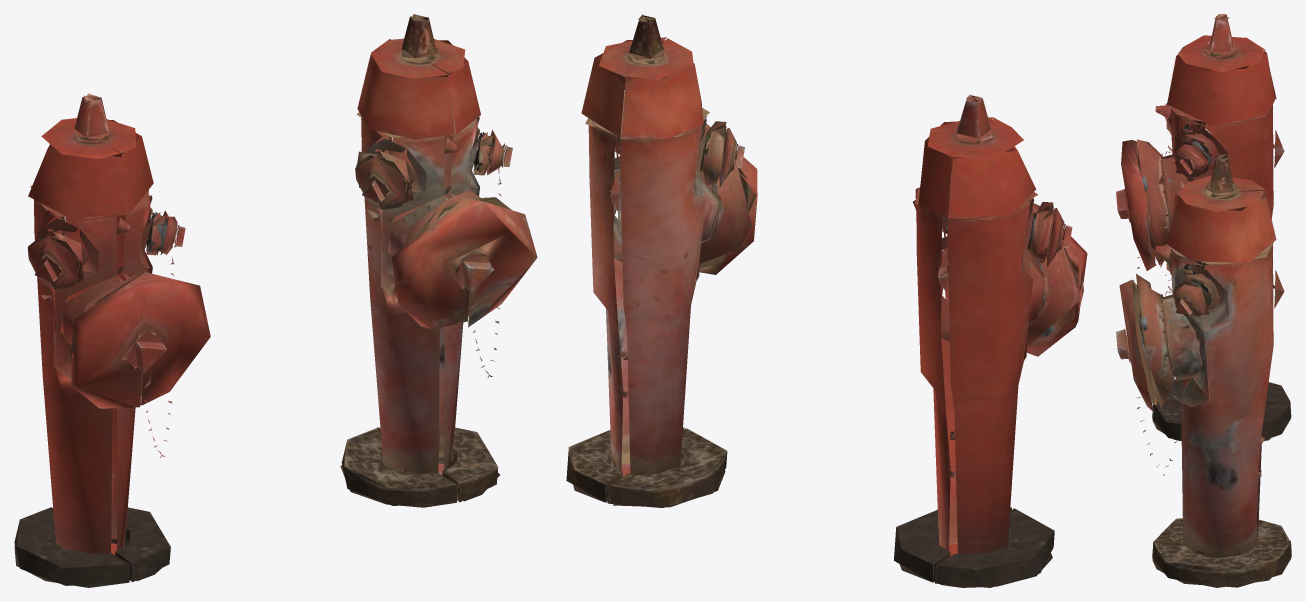
Rendered from ph_fire_hydrant.glb.
3 renders of one model, left to right at view 1: azimuth 30°, elevation 25°; view 2: azimuth 150°, elevation 25°; view 3: azimuth 270°, elevation 25°, orthographic. The views are drawn at different scales.
Parts seen in each view (by area): view 1: fire_hydrant; view 2: fire_hydrant; view 3: fire_hydrant.
Part boxes in pixels (x1,y1,x2,y2): fire_hydrant: [14, 14, 537, 587]; fire_hydrant: [566, 14, 1087, 587]; fire_hydrant: [1116, 14, 1291, 587].
Bounding box in the file's own units: 0.8728 × 0.8031 × 0.3184.
2 materials, 2 textured.
